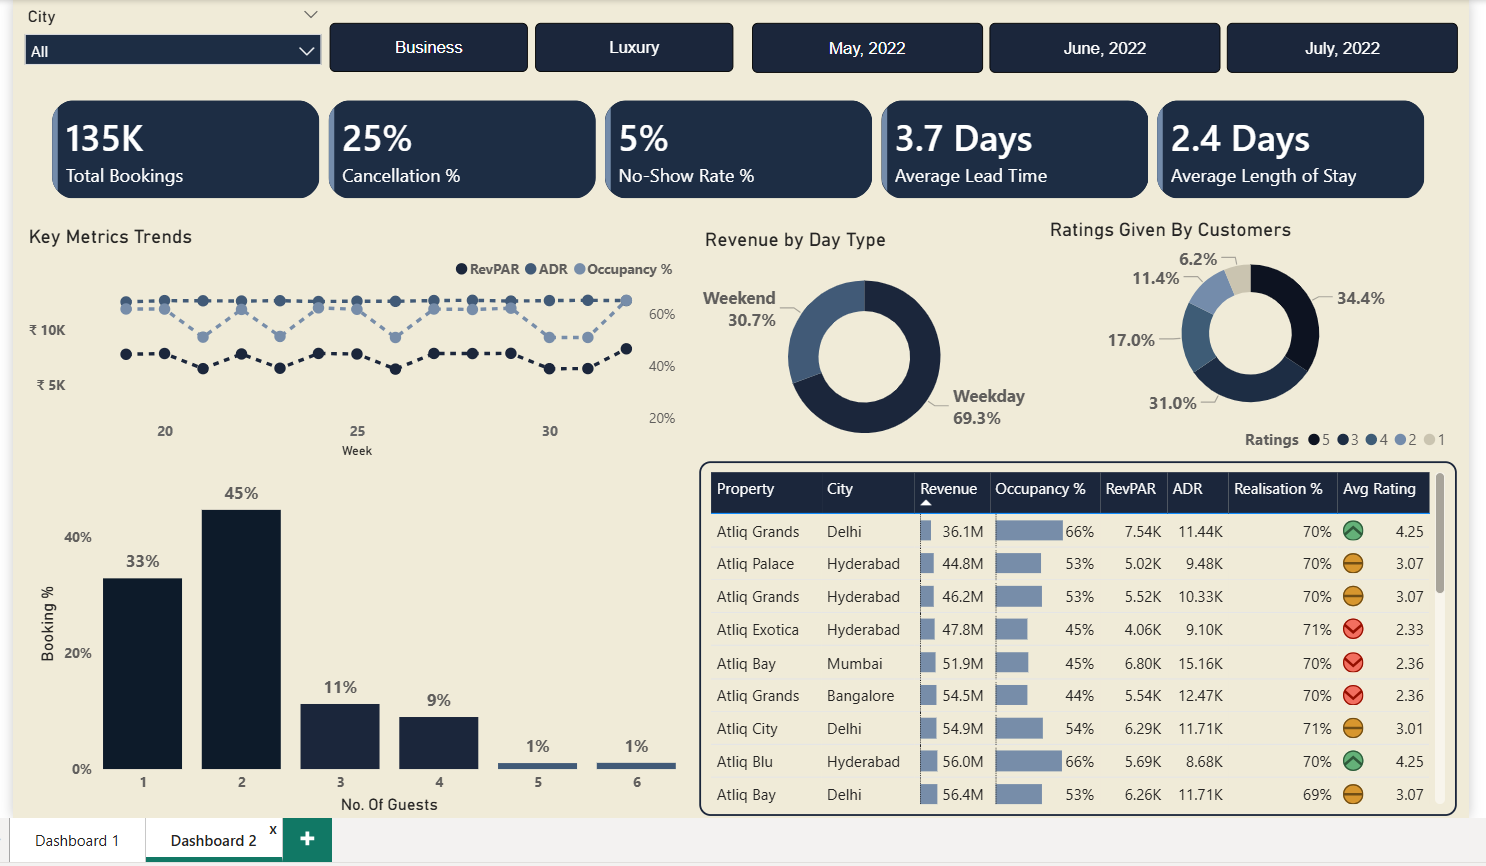

This screenshot's page, from the dashboard's own definition file:
{"tool":"powerbi","page":{"name":"Dashboard 2","canvas":[1280,720],"ordinal":1},"visuals":[{"type":"lineChart","title":"Key Metrics Trends","fields":{"Y":["Key_Measures.Rev_Per_Avl_Room","Key_Measures.Avg_Rev_Per_Booking"],"Category":["dim_date.Week Number"],"Y2":["Key_Measures.Occupancy %"]},"box":[8.3,197.6,581,209.5],"z":0},{"type":"cardVisual","fields":{"Data":["Key_Measures.Total Bookings","Key_Measures.Cancellation %","Key_Measures.No-Show Rate %","Key_Measures.Average Lead Time","Key_Measures.Average Length of Stay"]},"box":[17.9,71.4,1241.7,120.2],"z":1000},{"type":"donutChart","fields":{"Y":["Key_Measures.Revenue"],"Category":["dim_date.Day Type"]},"box":[603.2,200.3,290.8,208.7],"z":2000},{"type":"tableEx","fields":{"Values":["dim_hotels.property_name","dim_hotels.city","Key_Measures.Revenue","Key_Measures.Occupancy %","Key_Measures.RevPAR","Key_Measures.ADR","Key_Measures.Realisation %","Key_Measures.Average Rating"]},"box":[603.6,406,666.7,311.9],"z":3000},{"type":"clusteredColumnChart","fields":{"Y":["Key_Measures.Total Bookings"],"Category":["fact_bookings.no_guests"]},"box":[18.1,406.6,570.6,313.7],"z":4000},{"type":"ChicletSlicer1448559807354","fields":{"Category":["dim_date.Month Year"]},"box":[641.7,11.9,636.9,65.5],"z":5000},{"type":"ChicletSlicer1448559807354","fields":{"Category":["dim_hotels.category"]},"box":[270.2,11.9,371.4,70.2],"z":6000},{"type":"slicer","fields":{"Values":["dim_hotels.city"]},"box":[0,1.2,281,70.2],"z":7000},{"type":"donutChart","title":"Ratings Given By Customers","fields":{"Category":["fact_bookings.ratings_given"],"Y":["Key_Measures.Ratings Count"]},"box":[907.1,191.7,363.1,214.3],"z":8000}]}

Visuals, with their boxes on the page's 1280x720 design canvas (x1, y1, x2, y2). These are canvas units, not pixel positions in the 1486x866 screenshot, which may show the page scaled, cropped or inside an application window:
"Key Metrics Trends" lineChart: bbox=(8, 198, 589, 407)
cardVisual - Key_Measures.Total Bookings x Key_Measures.Cancellation %: bbox=(18, 71, 1260, 192)
donutChart - Key_Measures.Revenue x dim_date.Day Type: bbox=(603, 200, 894, 409)
tableEx - dim_hotels.property_name x dim_hotels.city: bbox=(604, 406, 1270, 718)
clusteredColumnChart - Key_Measures.Total Bookings x fact_bookings.no_guests: bbox=(18, 407, 589, 720)
ChicletSlicer1448559807354 - dim_date.Month Year: bbox=(642, 12, 1279, 77)
ChicletSlicer1448559807354 - dim_hotels.category: bbox=(270, 12, 642, 82)
slicer - dim_hotels.city: bbox=(0, 1, 281, 71)
"Ratings Given By Customers" donutChart: bbox=(907, 192, 1270, 406)
